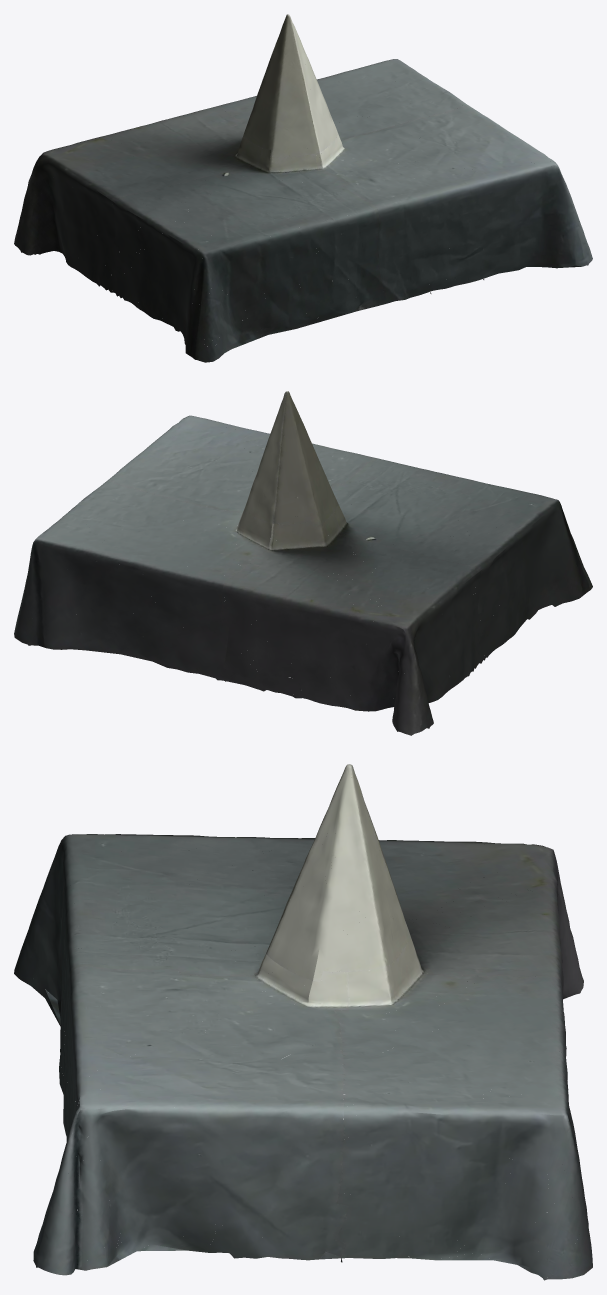
File: 静物_几何体_六角锥体01_opt.glb
3 views of the same model, one above another, from view 1: azimuth 30°, elevation 25°; view 2: azimuth 150°, elevation 25°; view 3: azimuth 270°, elevation 25° (orthographic). The views are drawn at different scales.
Parts seen in each view (by area): view 1: defaultMat, defaultMat_1; view 2: defaultMat, defaultMat_1; view 3: defaultMat, defaultMat_1.
Boxes of the visible parts, <box> form: defaultMat: <box>14,14,592,362</box>; defaultMat_1: <box>14,26,587,362</box>; defaultMat: <box>14,391,592,735</box>; defaultMat_1: <box>18,396,587,732</box>; defaultMat: <box>14,764,592,1280</box>; defaultMat_1: <box>17,765,587,1279</box>.
Size of the model in its own units: 0.5503 by 0.3 by 0.4286.
1 material, 1 textured.
